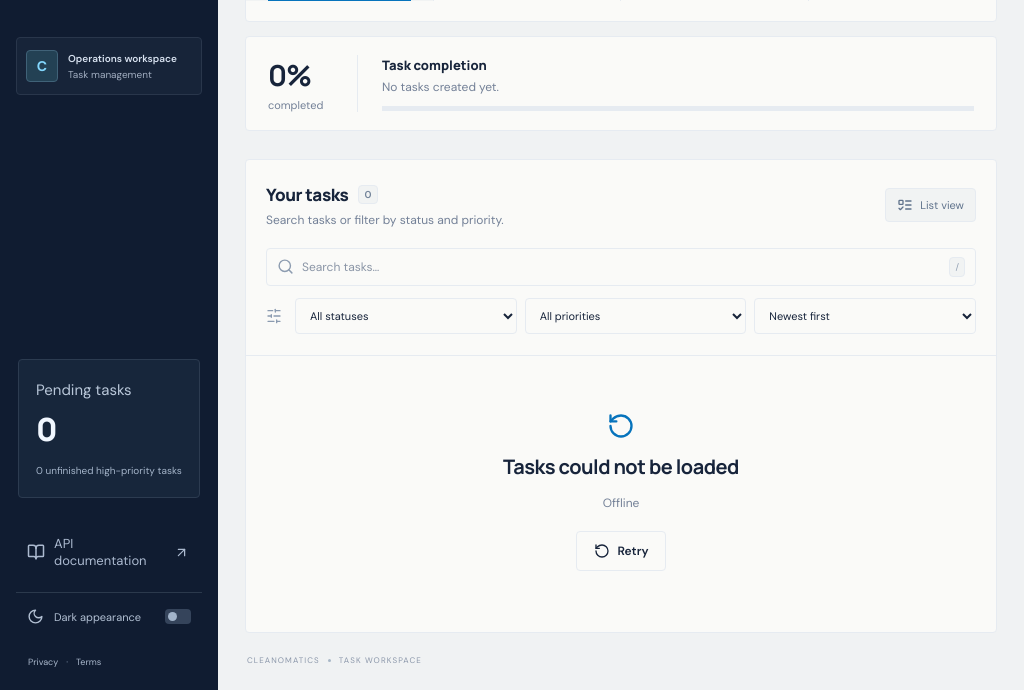
Scenario: workspace journeys › provides retry for initial load errors and a meaningful empty state
The image size is (1024, 690).
(page scrolled)
Check: the text "Offline" is shown, box [603, 493, 639, 513]
Click the button "Retry" at (621, 551), box [576, 531, 666, 571]
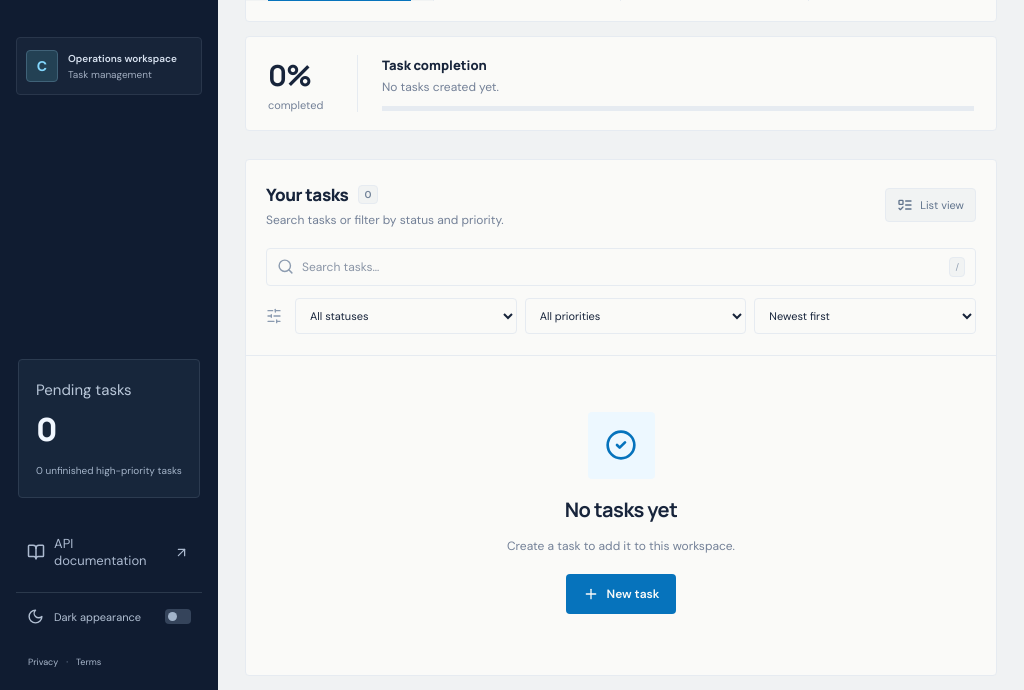
Check: the heading "No tasks yet" is shown, box [565, 496, 677, 523]
